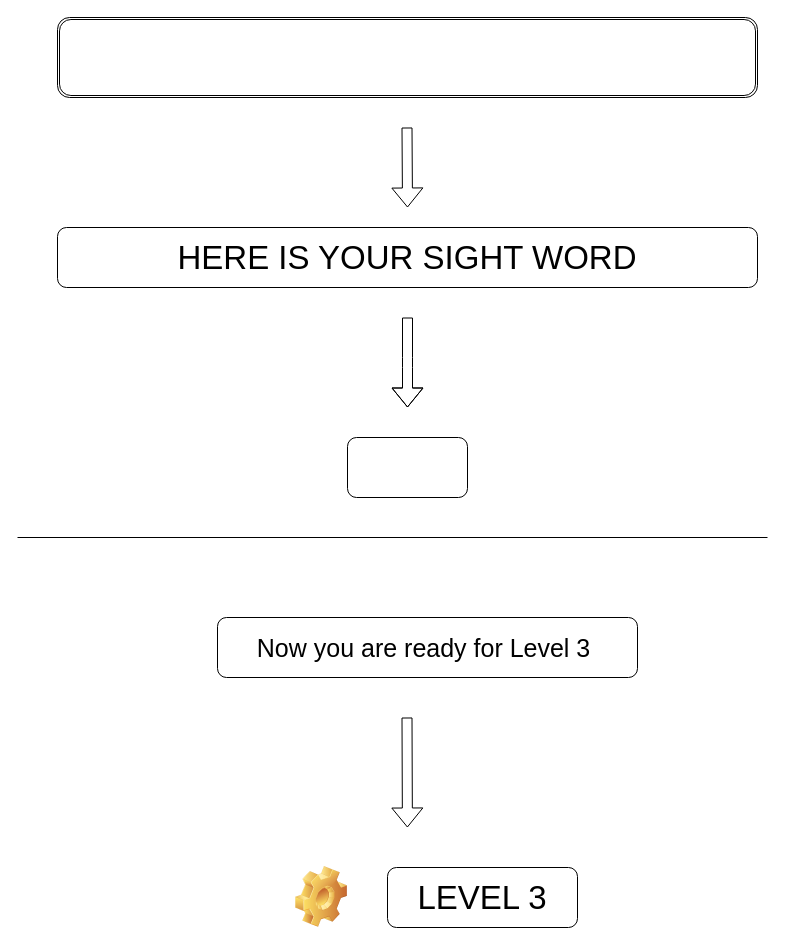
The diagram is 786 pixels wide and 945 high, and some of its shapes have lost their labels. Here are the shapes that lost their labels. From the top down, the centre of each, then its label:
At point (407, 57): "SET TIME".
At point (407, 467): "GO!".
